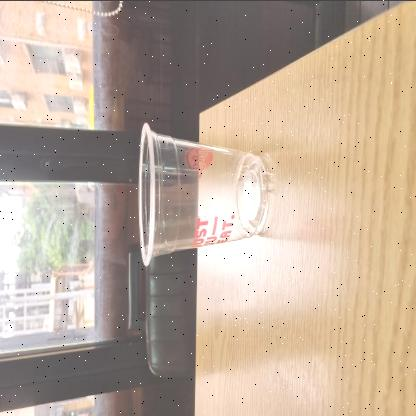Others: (131, 118, 273, 268)
